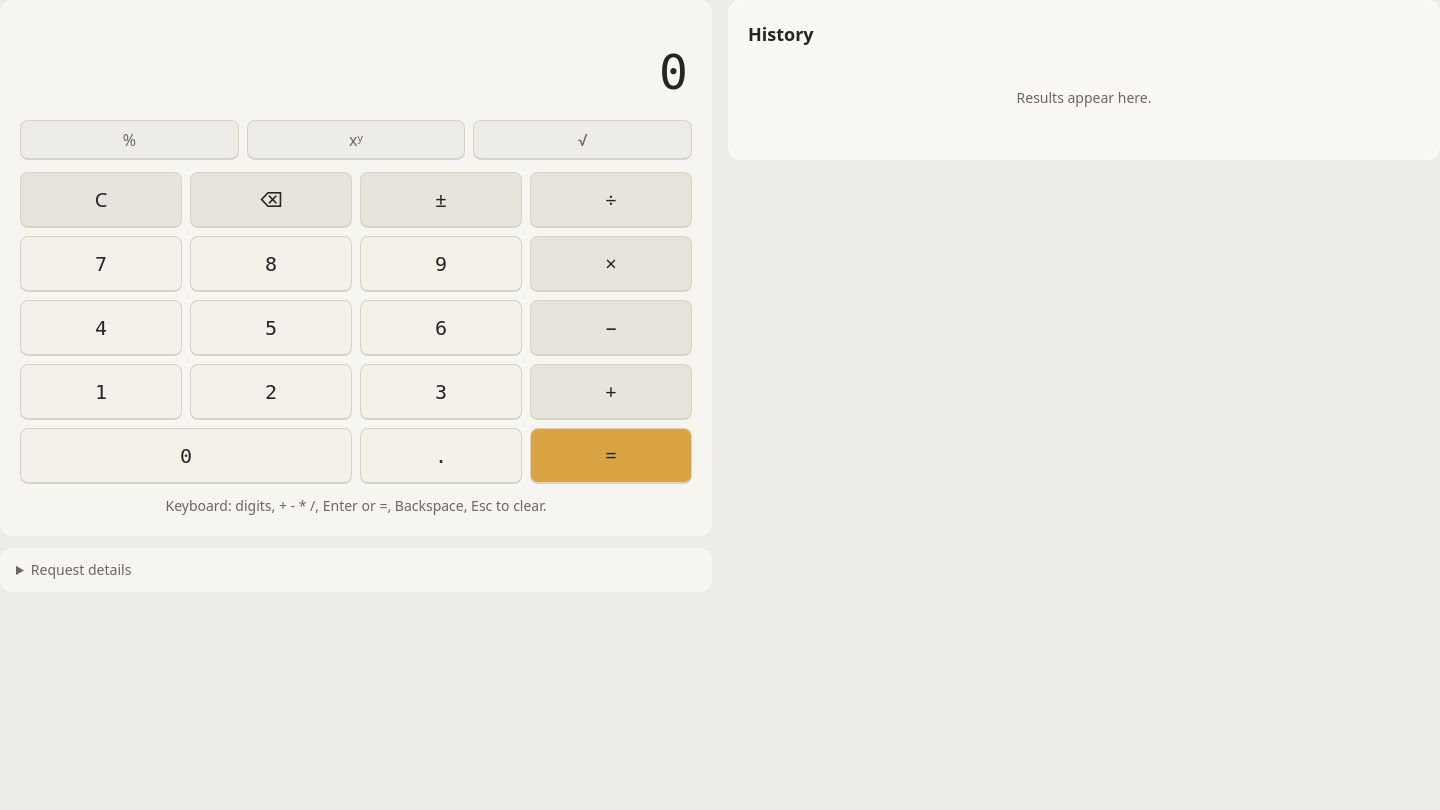
Calculator › calculates 12 ÷ 4 through the API and records it
The width and height of the screenshot is (1440, 810).
What coordinates should you click on to do the following:
click the button "1"
I would click on:
 (101, 392)
Its box is [20,364,182,420].
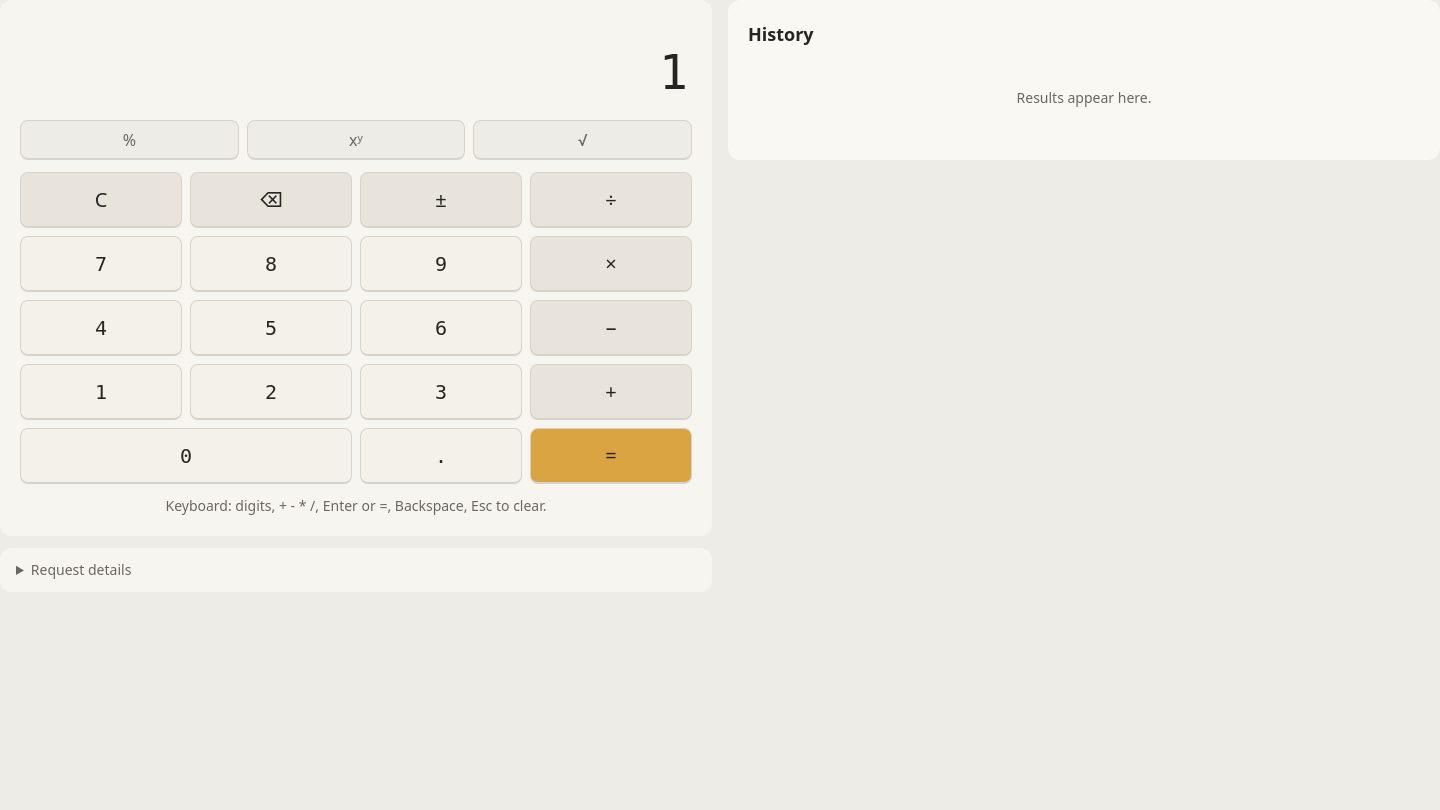
What coordinates should you click on to do the following:
click the button "2"
I would click on:
 (271, 392)
Its box is [190,364,352,420].
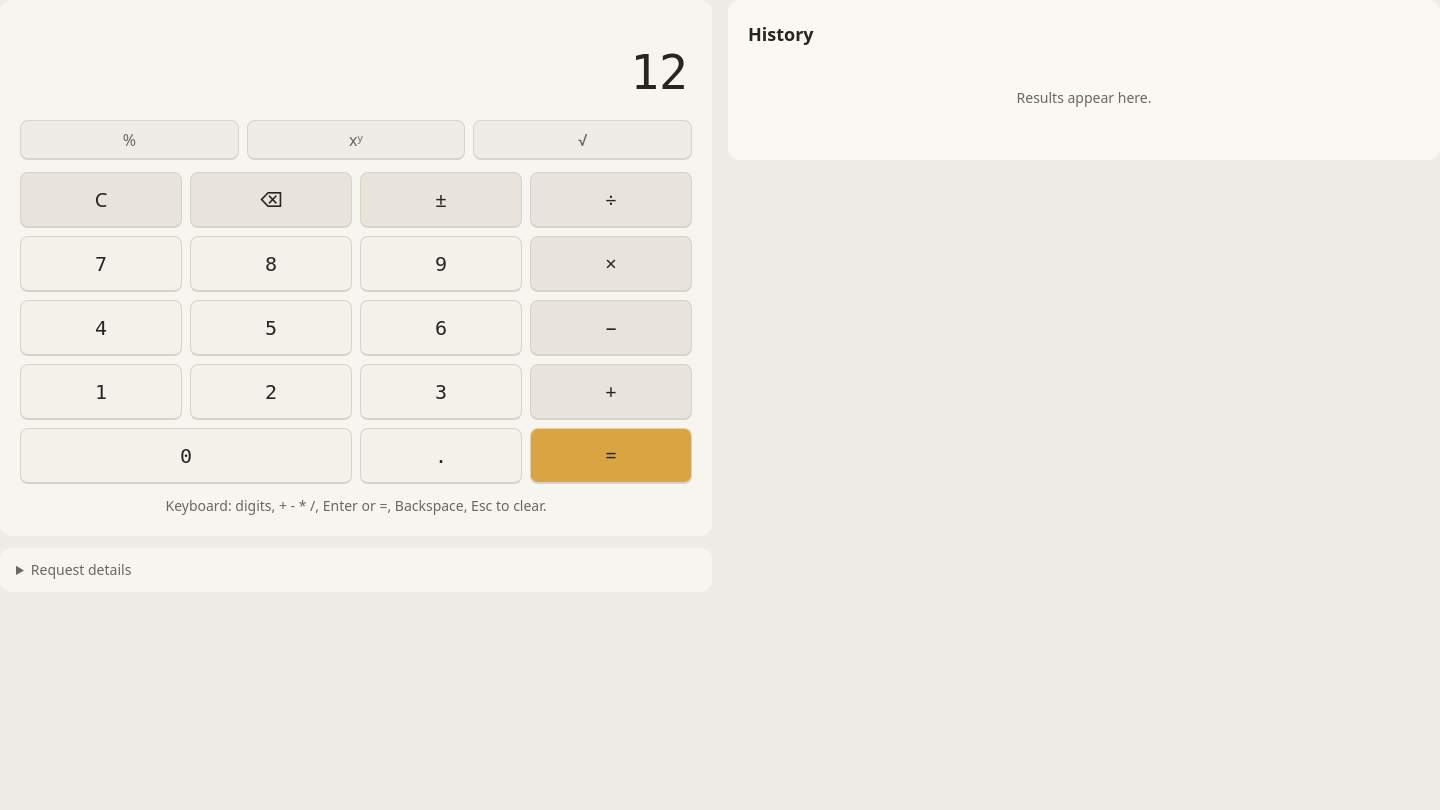
What coordinates should you click on to do the following:
click the button named "Divide"
I would click on:
 (611, 200)
Its box is [530,172,692,228].
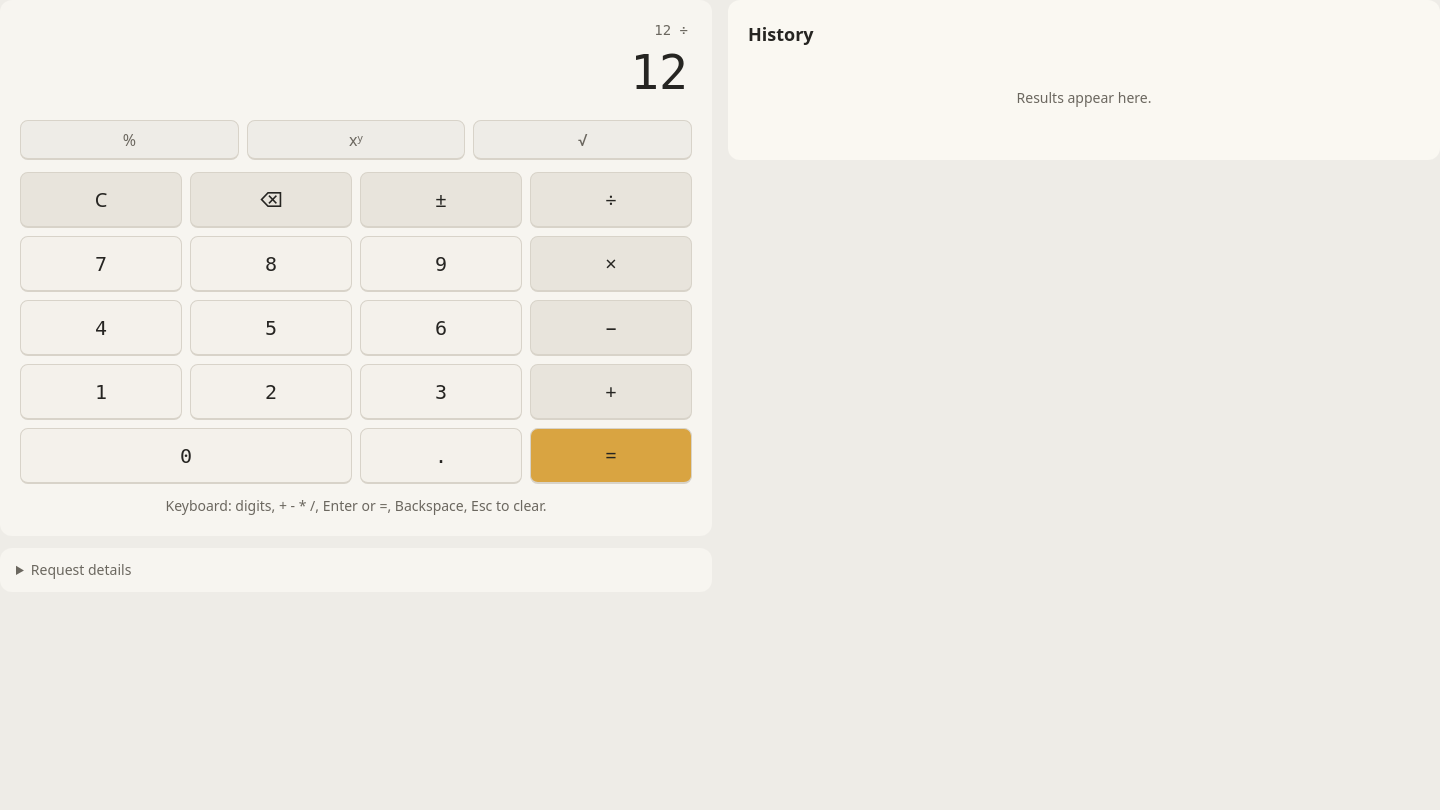
What coordinates should you click on to do the following:
click the button "4"
I would click on:
 (101, 328)
Its box is [20,300,182,356].
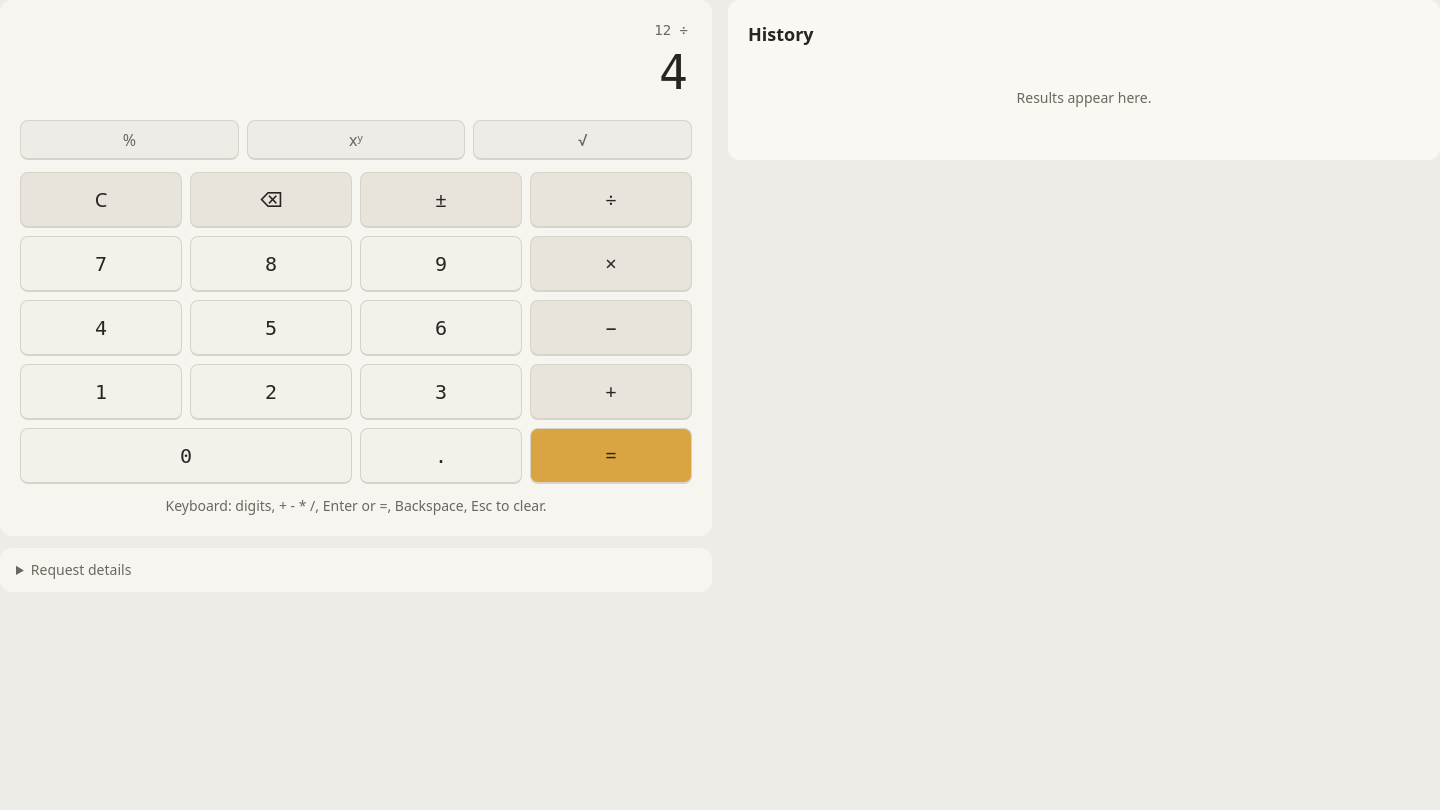
What coordinates should you click on to do the following:
click the button named "Equals"
I would click on:
 (611, 456)
Its box is [530,428,692,484].
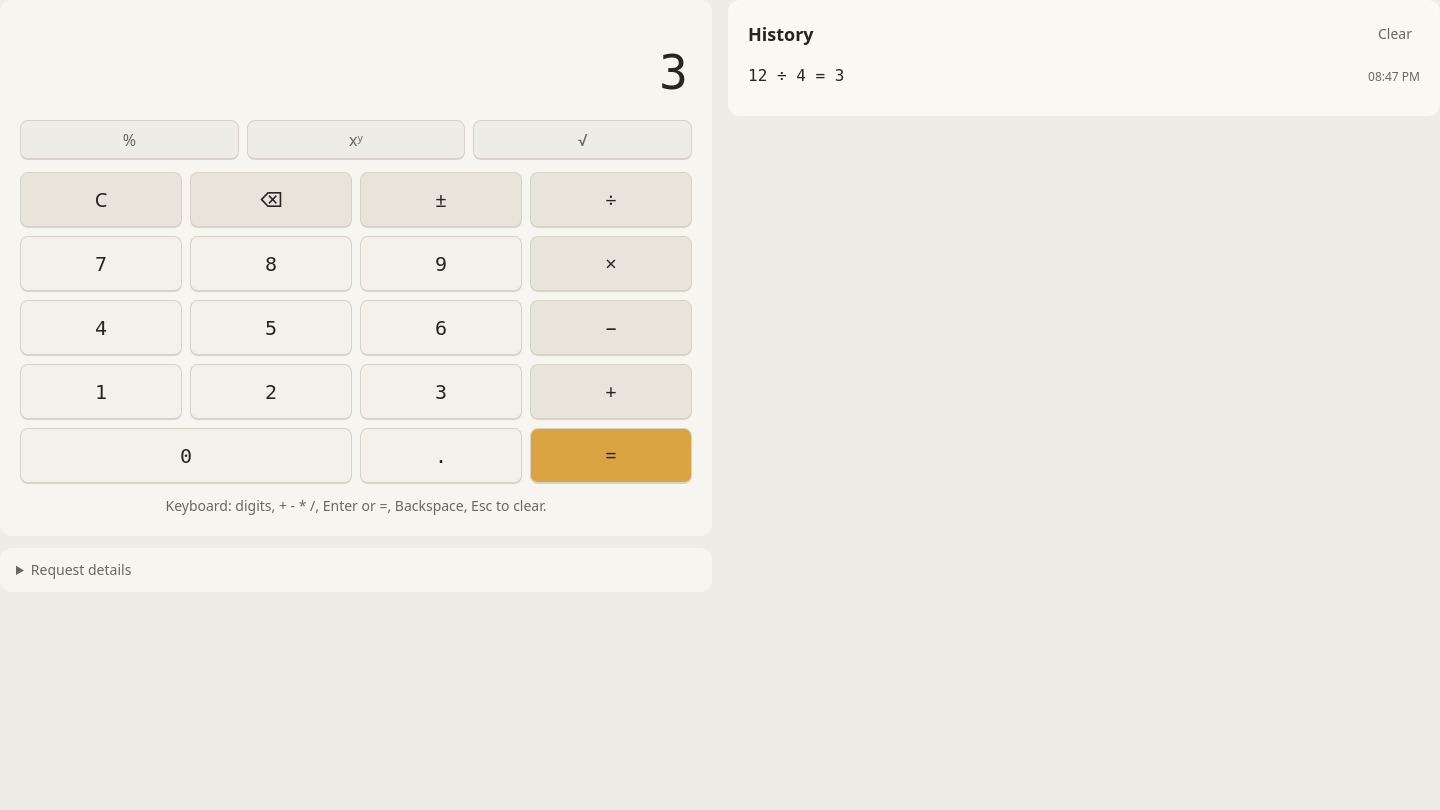
Now the button named "Use result: 12 ÷ 4 = 3" is shown, box [744,64,848,88]
Now the text with test id "display-value" reads "3", box [659,44,688,100]
